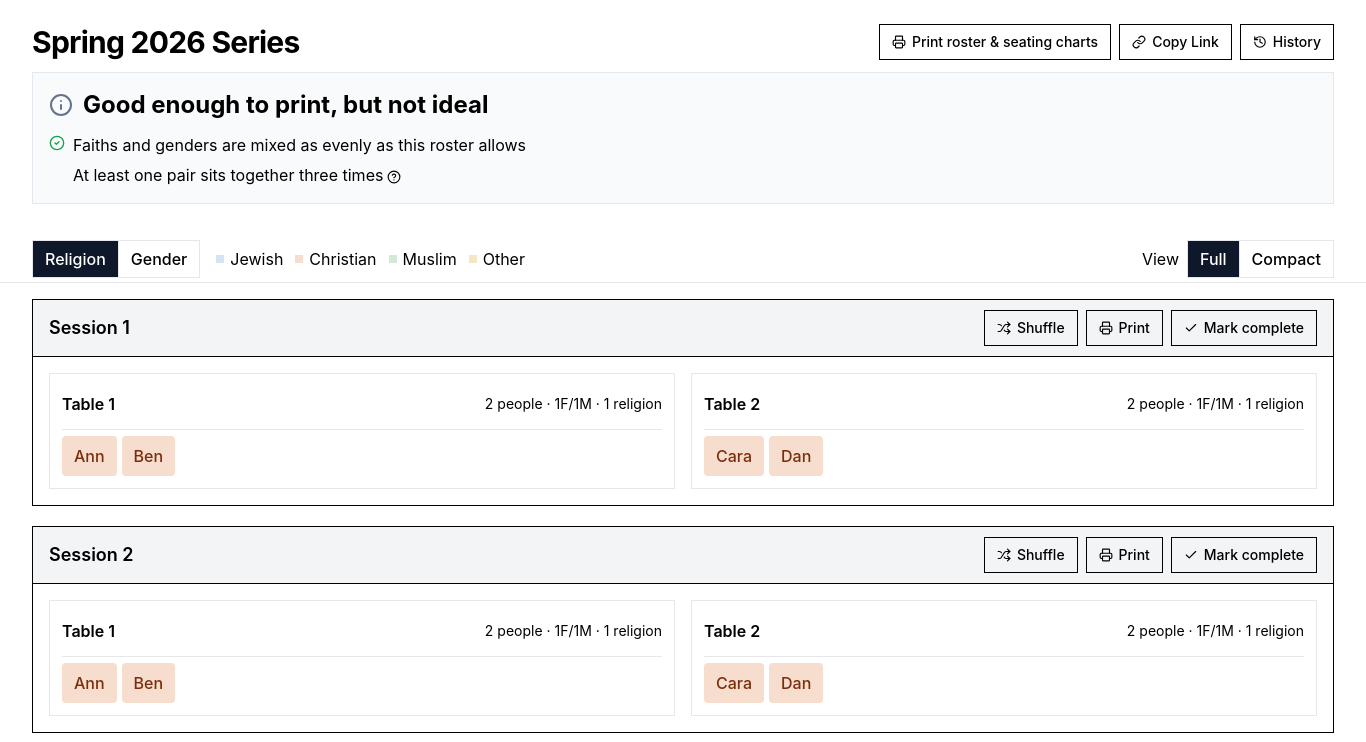
Test: AssignmentsPage › surfaces the API refusal rather than writing its own copy
What coordinates should you click on to do the following:
click the 1st button "Mark complete"
I would click on:
 (1244, 328)
Its box is [1171,310,1317,346].
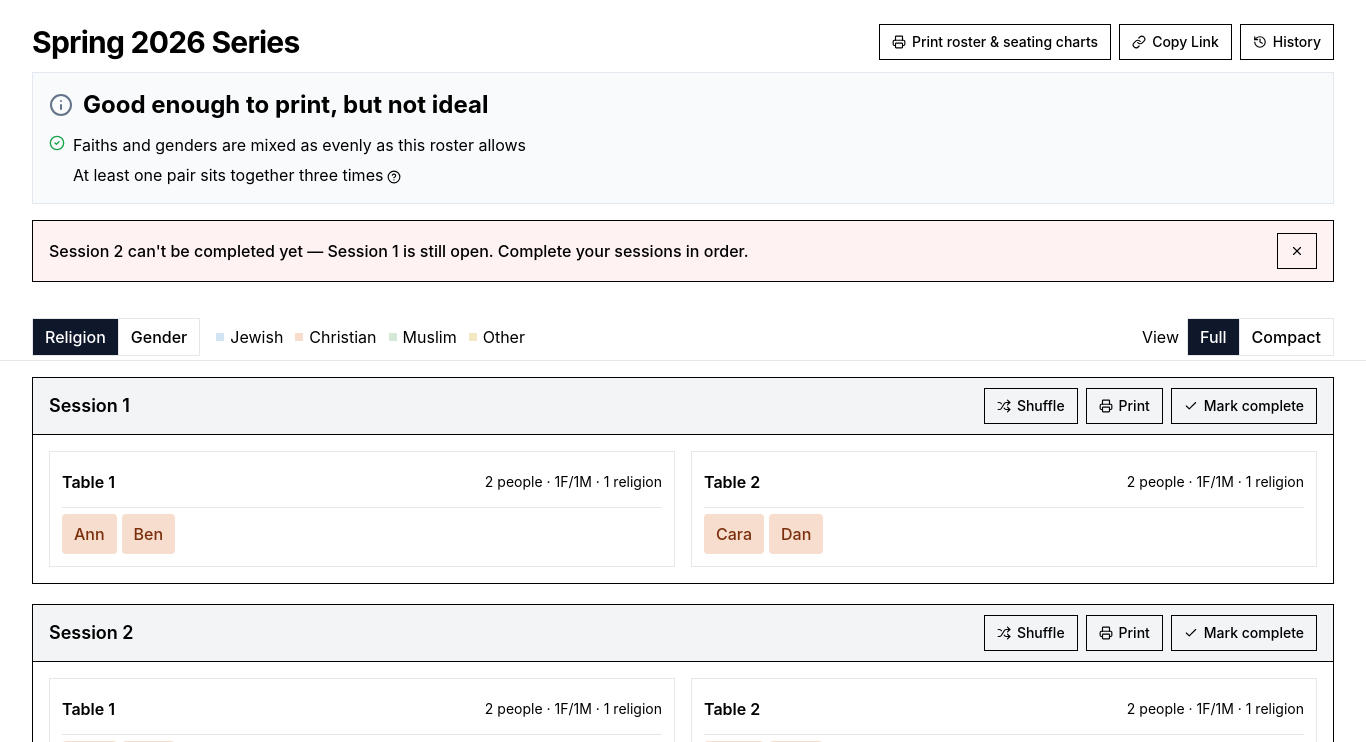
Now the text "Session 1 is still open" is shown, box [49,241,749,261]
